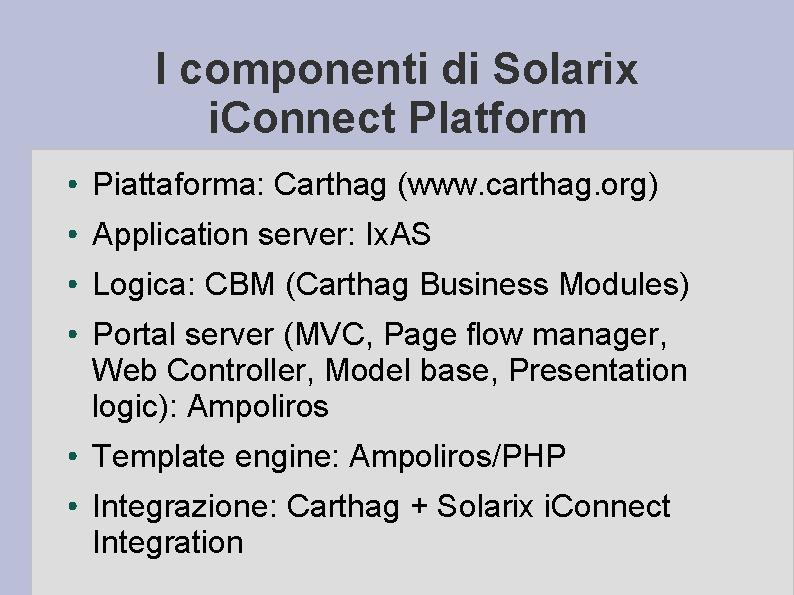paragraph: (52, 158, 741, 569)
title: (150, 38, 654, 144)
